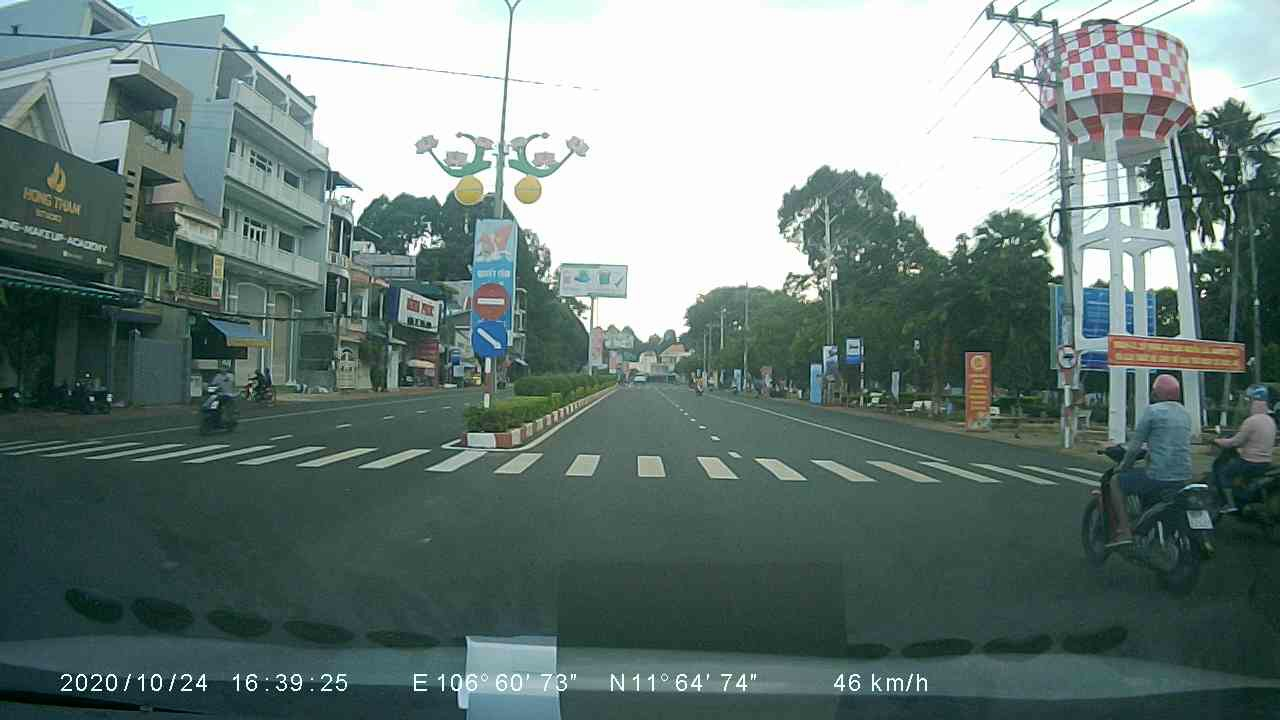Bien khac: (1055, 343, 1079, 371)
Cam di nguoc chieu: (468, 279, 510, 318)
Huong di phai re phai: (470, 320, 510, 358)
